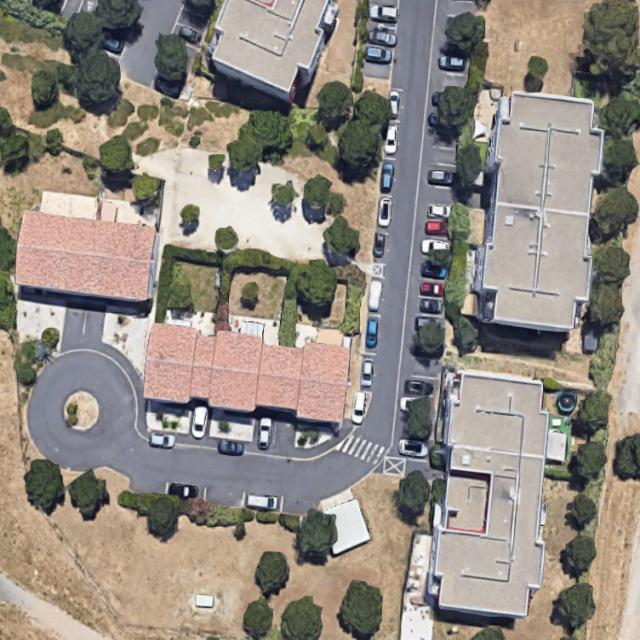immeuble: (468, 89, 608, 334), (427, 369, 555, 620), (197, 0, 342, 108)
maison: (140, 322, 350, 424), (11, 209, 159, 303)
